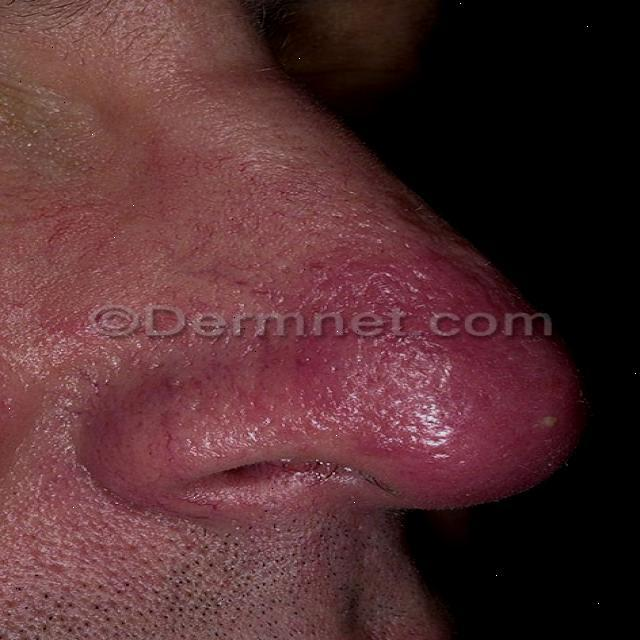images: (0, 0, 591, 639)
